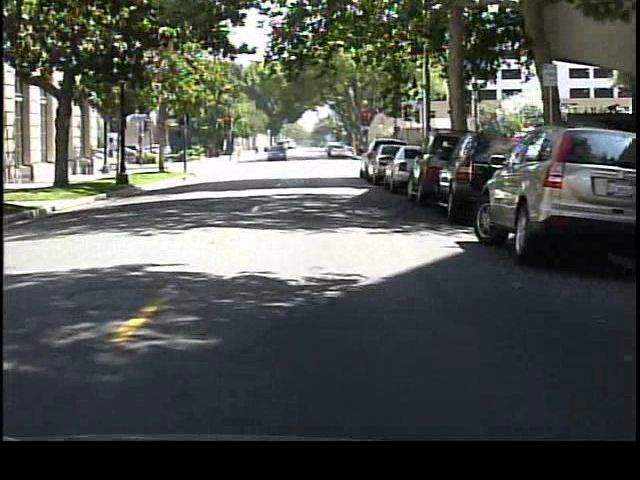person: (233, 140, 246, 166)
